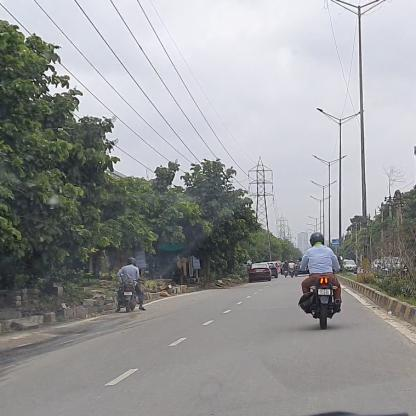car: (249, 263, 272, 283), (342, 260, 358, 274)
motorcycle: (299, 233, 342, 329), (116, 258, 145, 312), (287, 260, 296, 276), (282, 261, 288, 278)
